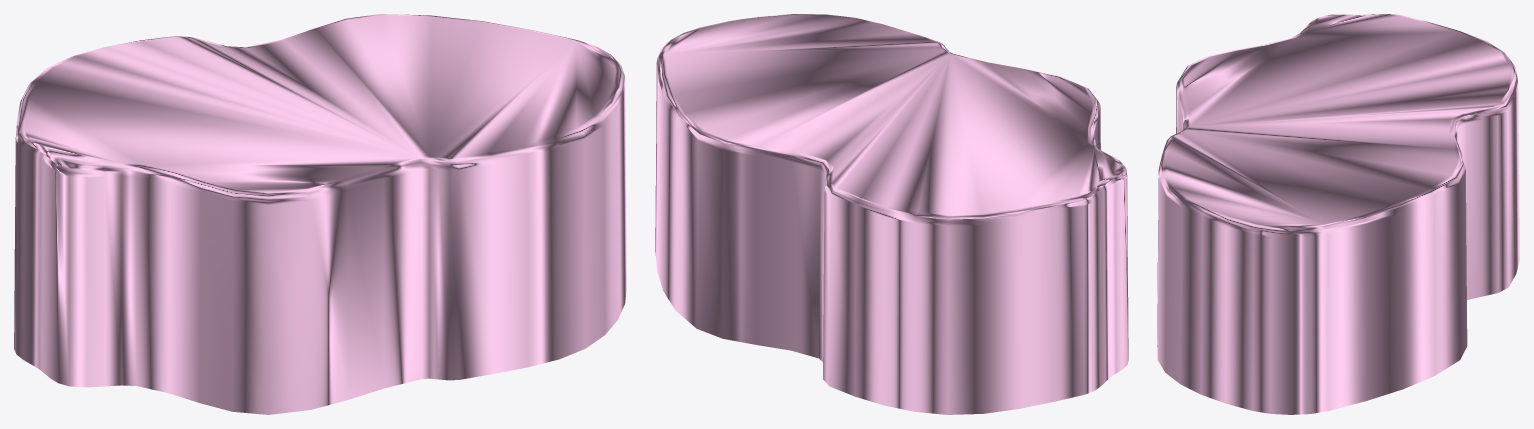
Rendered from lorville_noflyzone_suburb_redout_06.glb.
3 views of the same model, side by side, from view 1: azimuth 30°, elevation 25°; view 2: azimuth 150°, elevation 25°; view 3: azimuth 270°, elevation 25° (orthographic). The views are drawn at different scales.
Size of the model in its own units: 4102 by 1590 by 2851.
